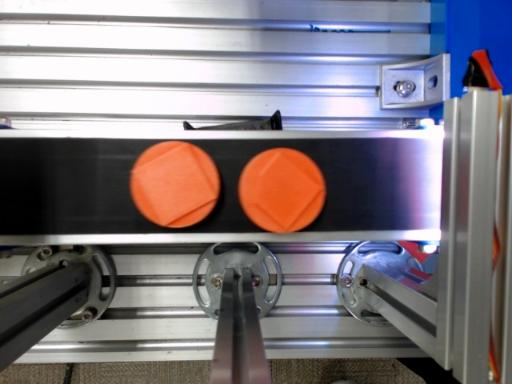Orange_Waper: (130, 141, 219, 227), (238, 148, 326, 232)
